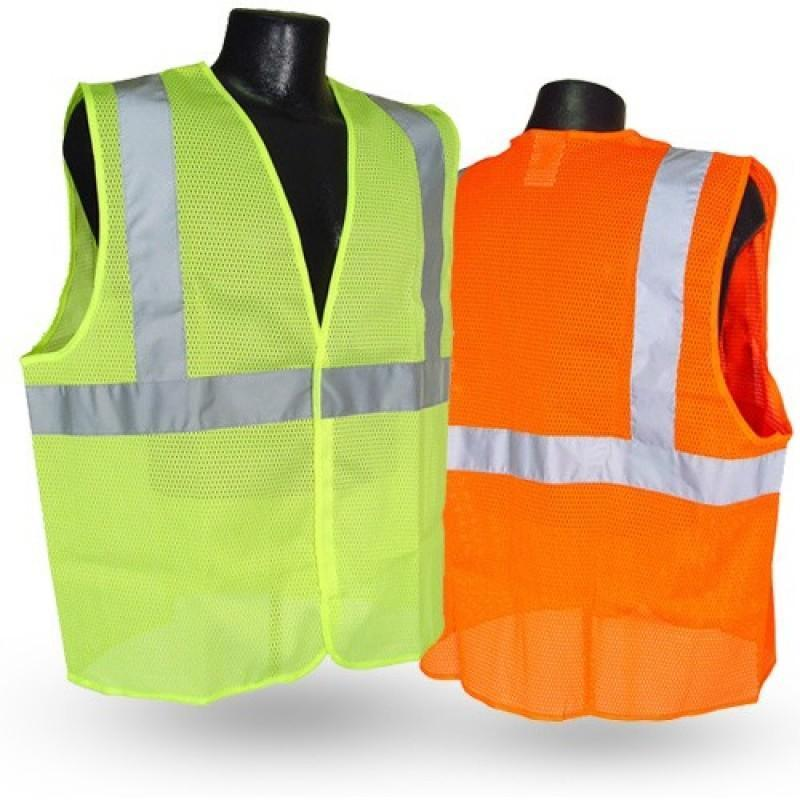vest: (15, 51, 463, 703), (415, 125, 791, 719)
